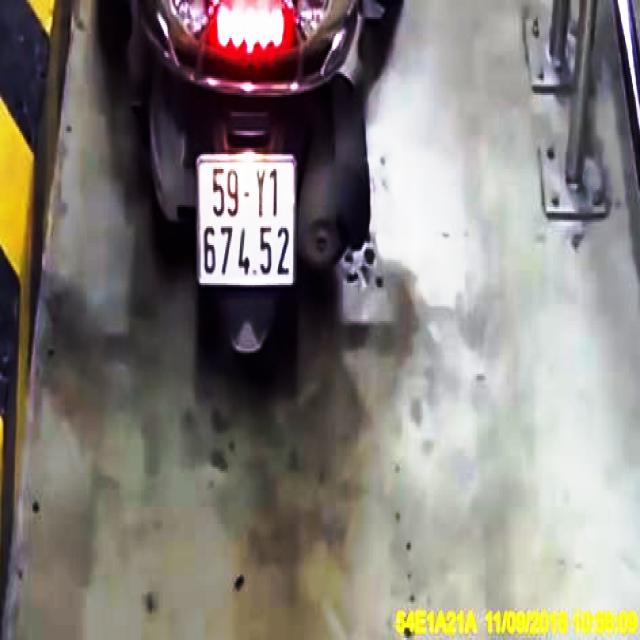license_plate: (202, 157, 297, 287)
